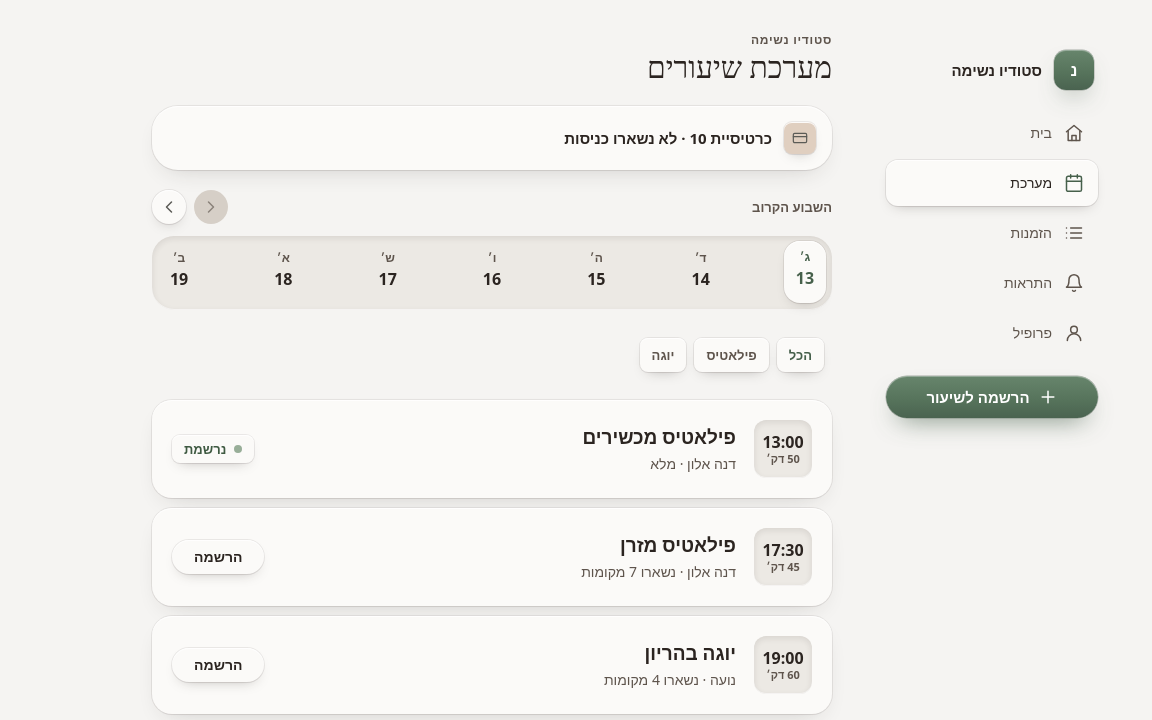
Scenario: booking a class › says clearly when there is no valid pass, and does not offer to book
Click the button with aria-label "הרשמה לשיעור יוגה בהריון ב-19:00". click: coordinates (218, 665)
box: [172,648,264,682]
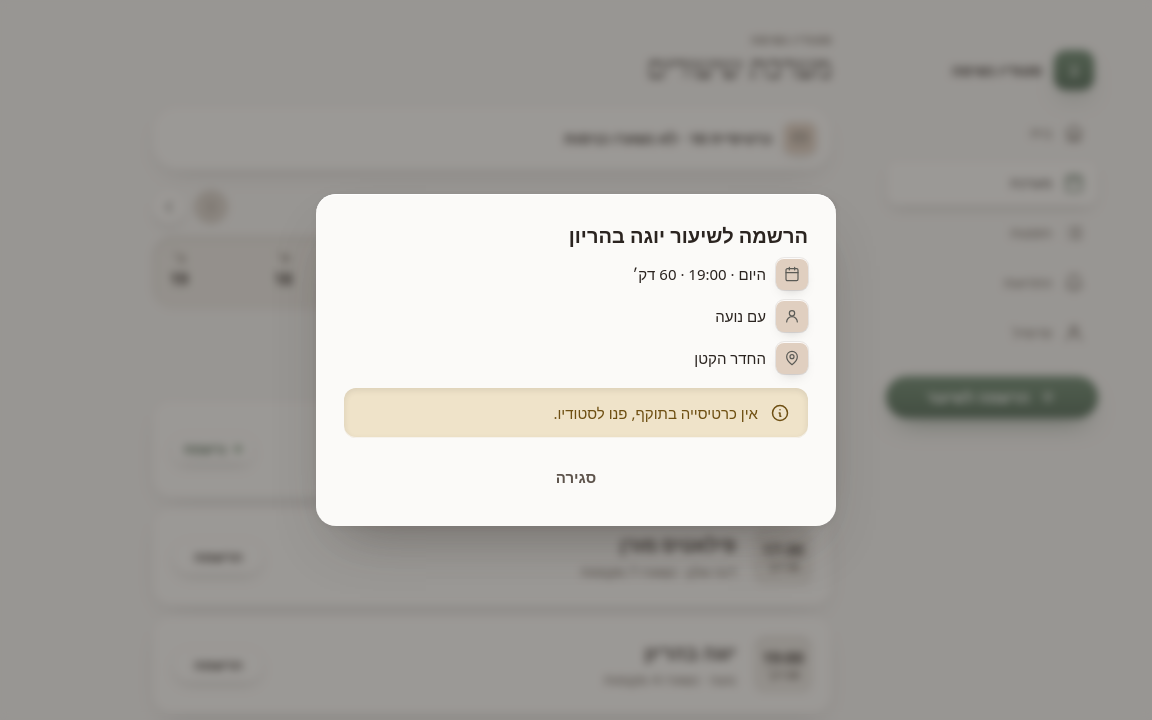
expect the message reads "אין כרטיסייה בתוקף, פנו לסטודיו.": met, box [553,403,758,423]
Click the button "סגירה". click: coordinates (576, 477)
box: [344,456,808,498]
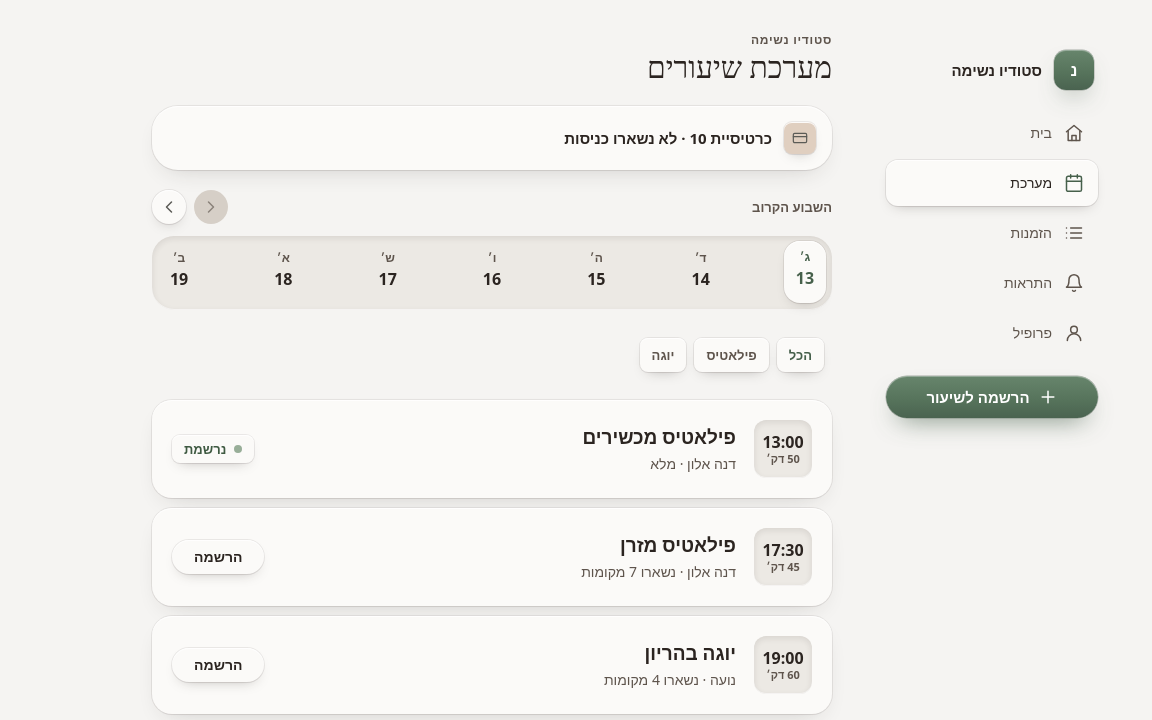
expect the dialog is gone: met
